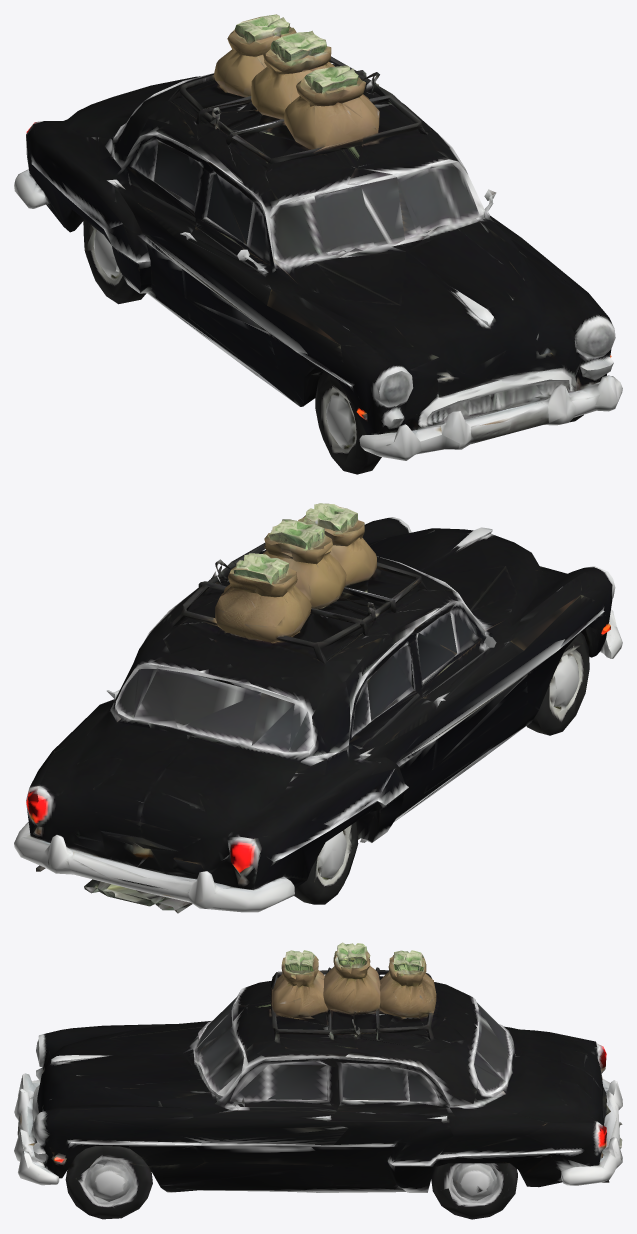
Rendered from SM_GetawayCar_Fal.fbx.
3 renders of one model, top to bottom at view 1: azimuth 30°, elevation 25°; view 2: azimuth 150°, elevation 25°; view 3: azimuth 270°, elevation 25°, orthographic. The views are drawn at different scales.
Parts seen in each view (by area): view 1: SM_GetawayCar; view 2: SM_GetawayCar; view 3: SM_GetawayCar.
Boxes of the visible parts, x1,y1,x2,y2 form: SM_GetawayCar: [14, 14, 622, 474]; SM_GetawayCar: [14, 503, 622, 913]; SM_GetawayCar: [14, 942, 622, 1219].
Bounding box in the file's own units: 0.7778 × 0.788 × 1.9.
Materials: 1 (1 with a texture image).
